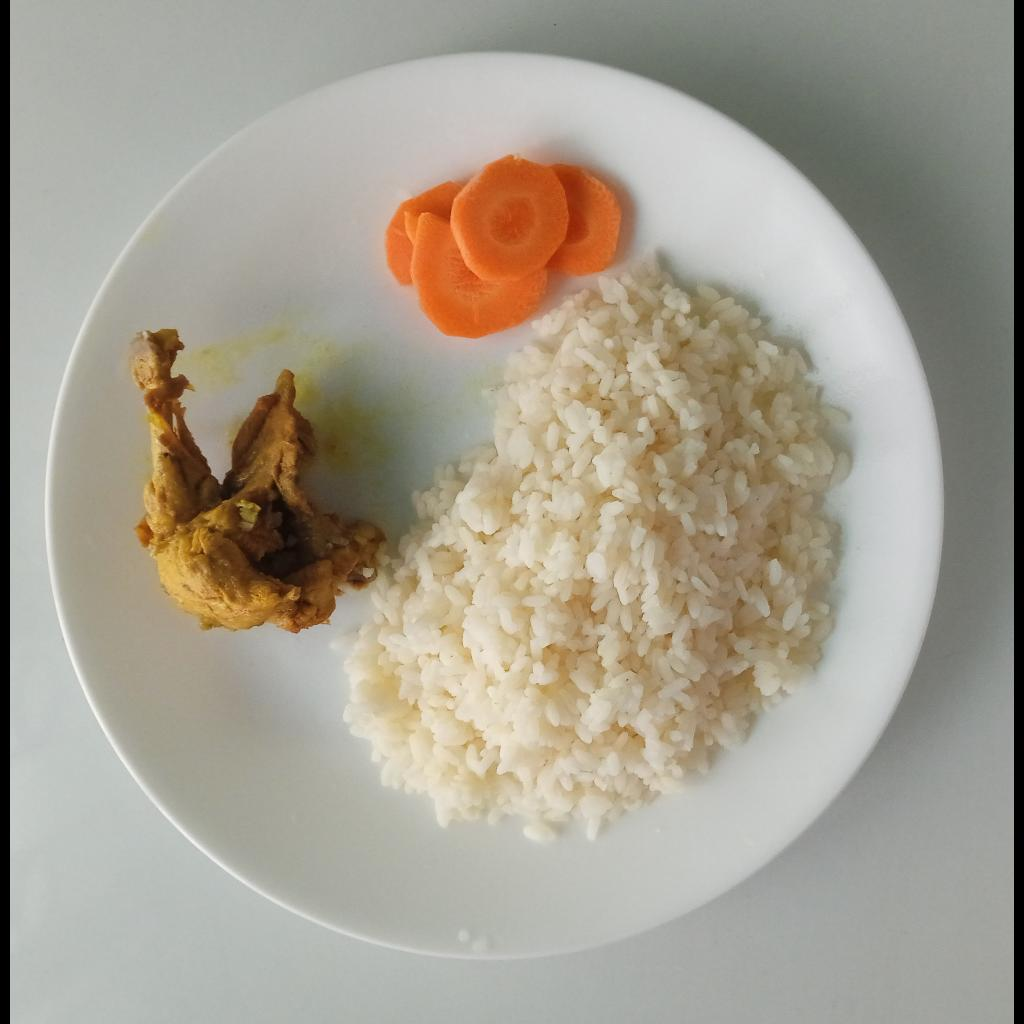carrot: (387, 153, 625, 339)
chicken: (129, 327, 387, 635)
rice: (327, 252, 848, 843)
